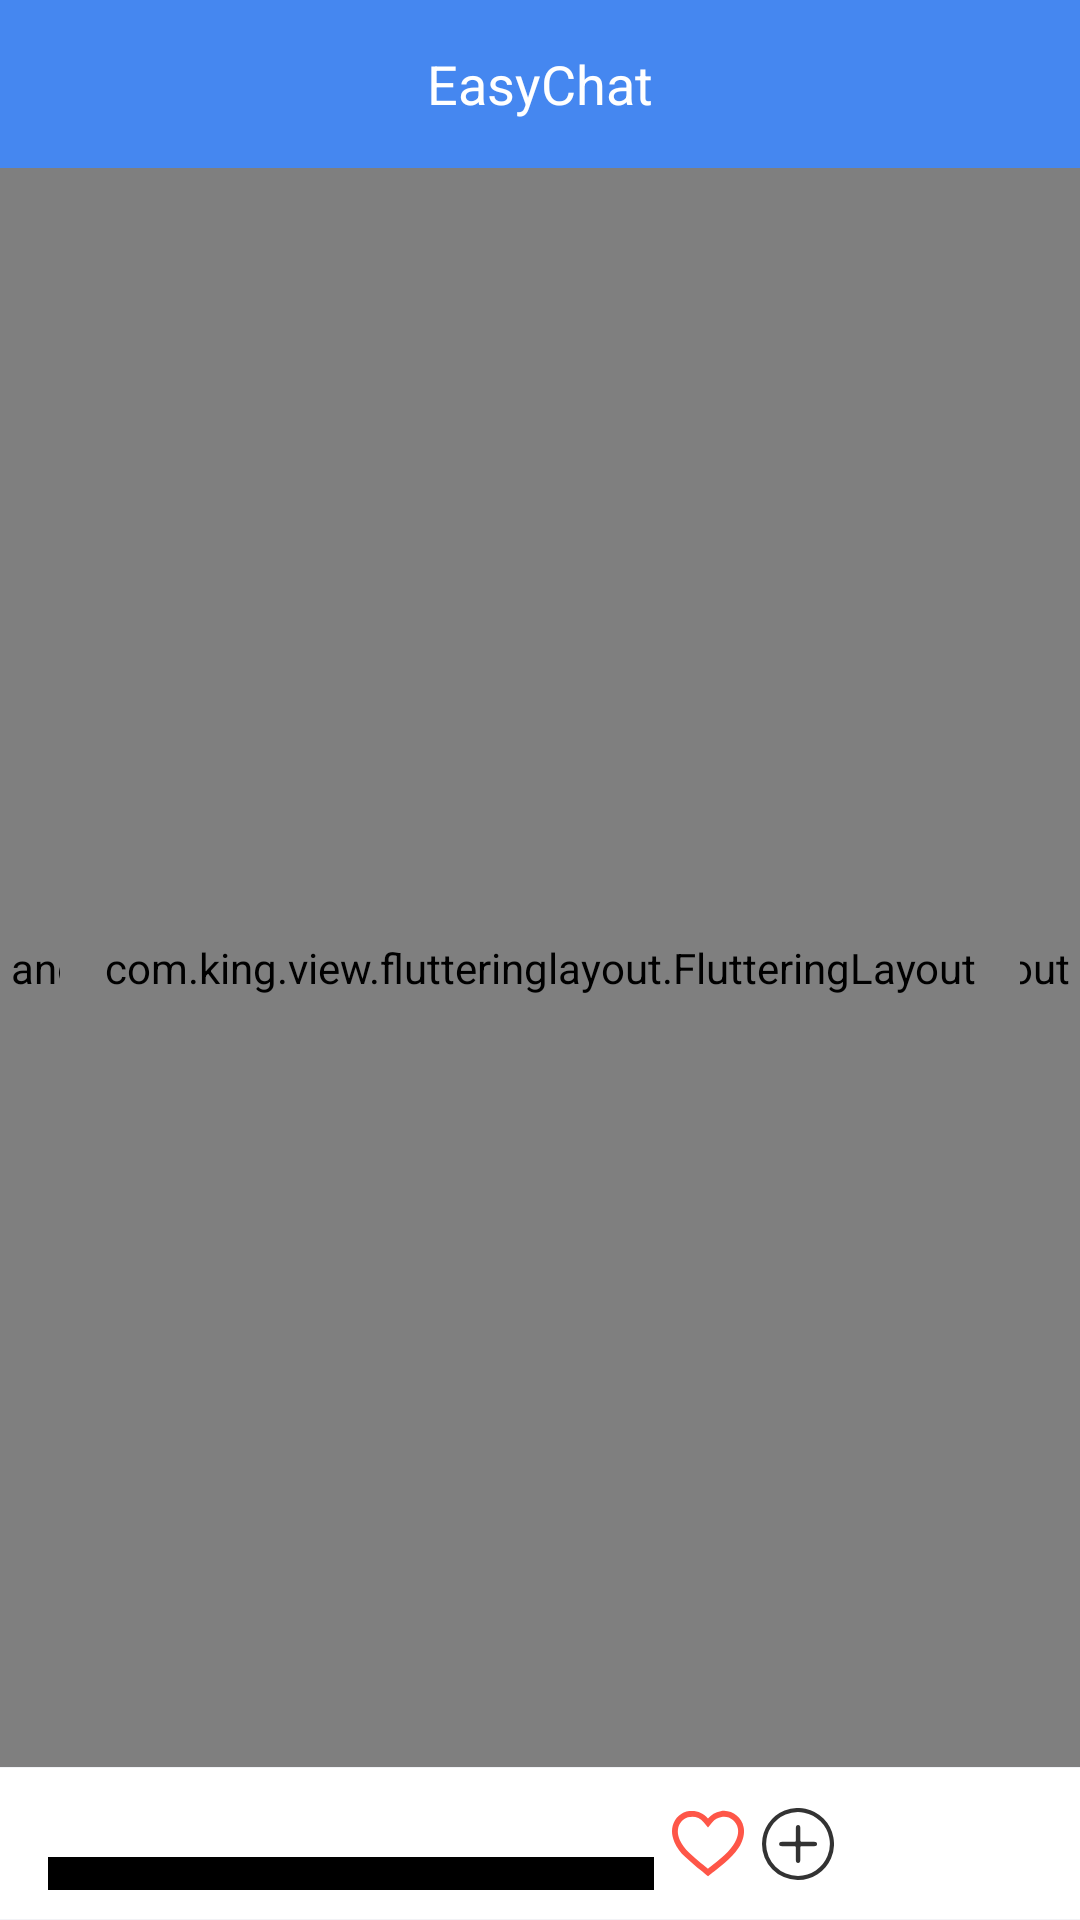

Where icons sit on this 1080px x 1920px app screen, as bbox=[x1, y1, x2, y2]:
ec add: bbox=[762, 1808, 834, 1880]
ec heart: bbox=[672, 1810, 744, 1876]
